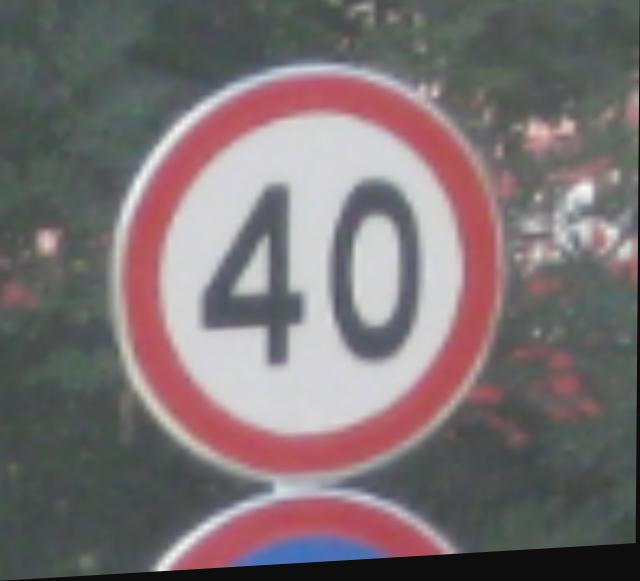limit40: (98, 47, 515, 505)
